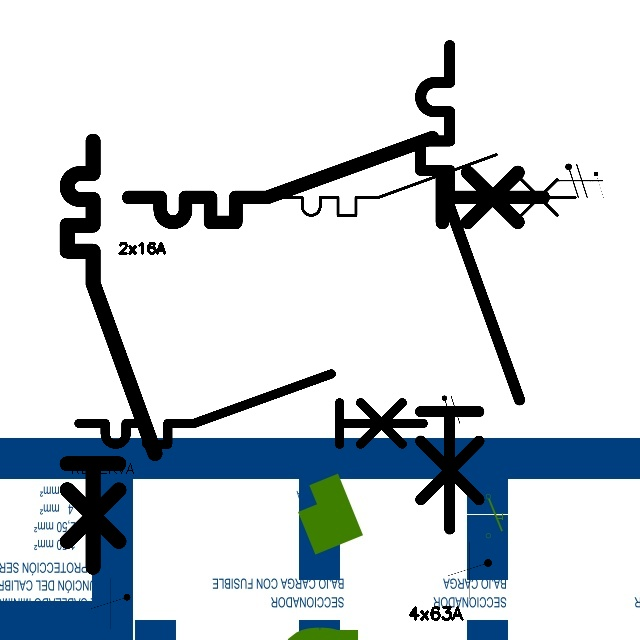interruptor_termomagnetico: (408, 33, 532, 541), (56, 130, 166, 578), (118, 127, 553, 233), (70, 365, 432, 453), (272, 147, 583, 223)
